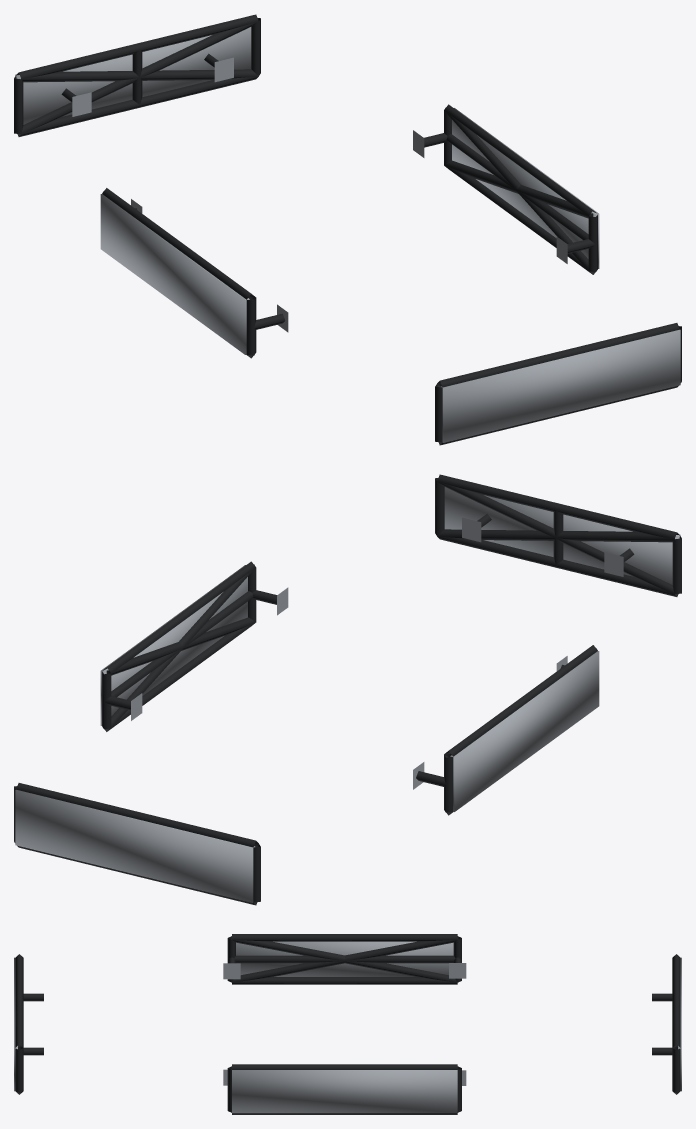
Rendered from vallon_serrilha_protecao.glb.
3 views of the same model, one above another, from view 1: azimuth 30°, elevation 25°; view 2: azimuth 150°, elevation 25°; view 3: azimuth 270°, elevation 25° (orthographic). The views are drawn at different scales.
Visible parts, largest first — view 1: Protection_front_Level3_Details, Protection_left_Level3_Details, Protection_rear_Level1_Details, Protection_rear_Level3_Details, Protection_right_Level1_Details, Protection_rear_Level2_Details, Protection_right_Level2_Details, Protection_right_Level3_Details, Protection_front_Level1_Details, Protection_left_Level1_Details; view 2: Protection_rear_Level3_Details, Protection_left_Level3_Details, Protection_front_Level1_Details, Protection_front_Level3_Details, Protection_right_Level1_Details, Protection_front_Level2_Details, Protection_right_Level2_Details, Protection_right_Level3_Details, Protection_rear_Level1_Details, Protection_left_Level1_Details; view 3: Protection_right_Level3_Details, Protection_left_Level2_Details, Protection_left_Level1_Details, Protection_left_Level3_Details, Protection_right_Level1_Details, Protection_rear_Level1_Details, Protection_front_Level1_Details.
Boxes of the visible parts, <box> form: Protection_front_Level3_Details: <box>440,329,680,442</box>; Protection_left_Level3_Details: <box>100,194,249,354</box>; Protection_rear_Level1_Details: <box>14,14,260,136</box>; Protection_rear_Level3_Details: <box>15,27,251,124</box>; Protection_right_Level1_Details: <box>413,104,597,274</box>; Protection_rear_Level2_Details: <box>16,21,258,135</box>; Protection_right_Level2_Details: <box>444,111,596,274</box>; Protection_right_Level3_Details: <box>452,108,599,268</box>; Protection_front_Level1_Details: <box>435,323,681,445</box>; Protection_left_Level1_Details: <box>102,188,288,358</box>; Protection_rear_Level3_Details: <box>15,789,255,902</box>; Protection_left_Level3_Details: <box>450,651,599,811</box>; Protection_front_Level1_Details: <box>435,474,681,596</box>; Protection_front_Level3_Details: <box>444,487,680,584</box>; Protection_right_Level1_Details: <box>102,561,288,731</box>; Protection_front_Level2_Details: <box>437,481,679,595</box>; Protection_right_Level2_Details: <box>102,568,255,731</box>; Protection_right_Level3_Details: <box>100,565,247,725</box>; Protection_rear_Level1_Details: <box>14,783,260,905</box>; Protection_left_Level1_Details: <box>413,645,597,815</box>; Protection_right_Level3_Details: <box>232,1070,457,1113</box>; Protection_left_Level2_Details: <box>231,936,458,982</box>; Protection_left_Level1_Details: <box>223,934,466,984</box>; Protection_left_Level3_Details: <box>236,941,453,976</box>; Protection_right_Level1_Details: <box>223,1064,466,1114</box>; Protection_rear_Level1_Details: <box>652,954,680,1094</box>; Protection_front_Level1_Details: <box>15,954,43,1094</box>.
Size of the model in its own units: 2.02 by 0.354 by 4.23.
1 material, 1 textured.
